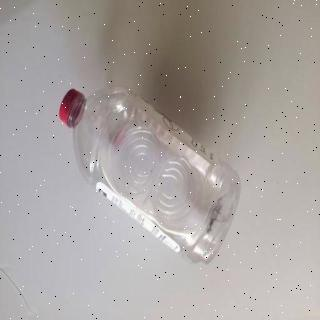Plastic-bottle: (60, 86, 243, 266)
